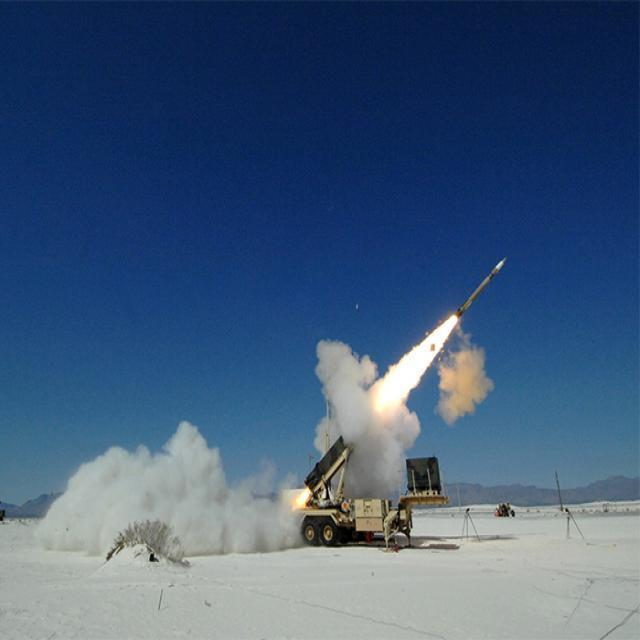missile: (457, 256, 511, 314)
